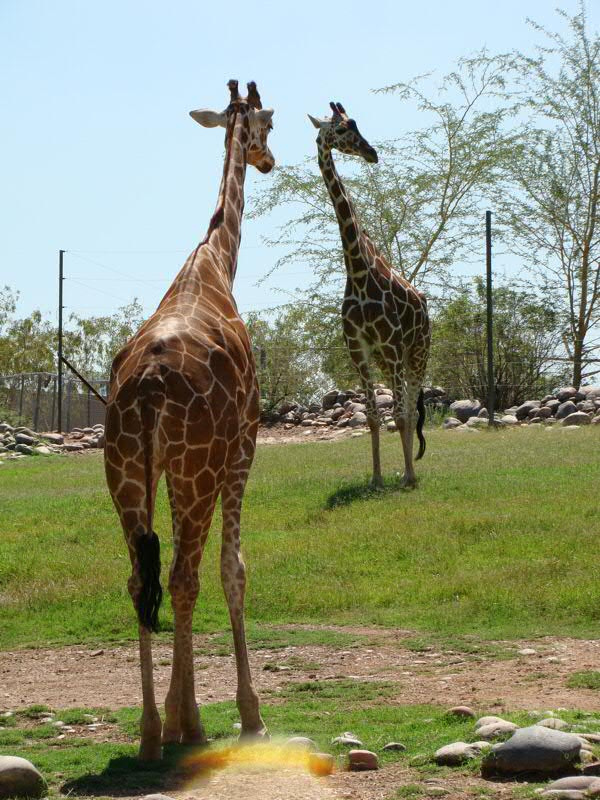giraffe: (107, 64, 293, 737), (293, 91, 478, 507)
